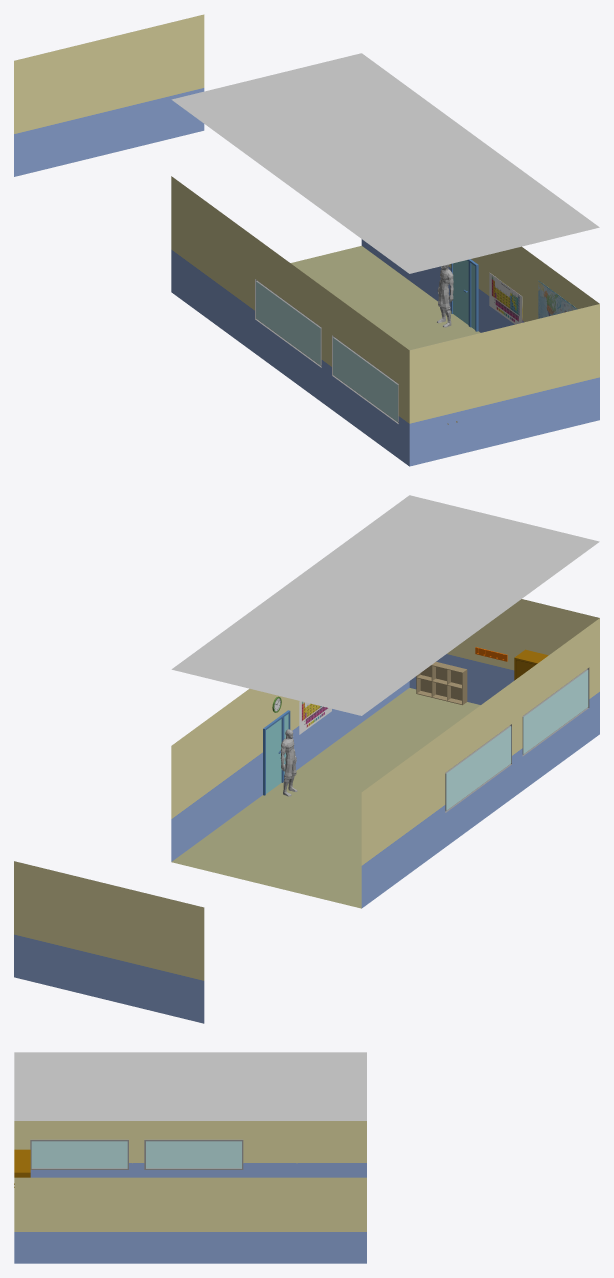
File: aula_001.fbx
3 renders of one model, top to bottom at view 1: azimuth 30°, elevation 25°; view 2: azimuth 150°, elevation 25°; view 3: azimuth 270°, elevation 25°, orthographic. The views are drawn at different scales.
Visible parts, largest first — view 1: pPlane6, polySurface3, pPlane4, pPlane1, pPlane5, pPlane2, polySurface1, polySurface2, pCube18, pCube20, pPlane8, man_reference; view 2: pPlane6, pPlane5, polySurface3, pPlane1, pPlane2, pPlane4, polySurface2, polySurface1, pCube17, pCube18, man_reference; view 3: pPlane2, pPlane6, polySurface3, polySurface1, polySurface2, pCube2.
Part boxes in pixels (<box>): pPlane6: <box>171,53,599,273</box>; polySurface3: <box>171,176,409,466</box>; pPlane4: <box>409,304,599,466</box>; pPlane1: <box>14,14,204,176</box>; pPlane5: <box>290,245,480,350</box>; pPlane2: <box>361,239,599,332</box>; polySurface1: <box>255,279,321,367</box>; polySurface2: <box>332,335,398,423</box>; pCube18: <box>451,259,478,331</box>; pCube20: <box>489,272,522,324</box>; pPlane8: <box>538,280,577,318</box>; man_reference: <box>437,264,453,327</box>; pPlane6: <box>171,495,599,715</box>; pPlane5: <box>171,688,480,908</box>; polySurface3: <box>361,618,599,908</box>; pPlane1: <box>14,861,204,1023</box>; pPlane2: <box>171,681,409,861</box>; pPlane4: <box>409,599,599,704</box>; polySurface2: <box>522,667,589,756</box>; polySurface1: <box>445,724,511,812</box>; pCube17: <box>416,662,467,705</box>; pCube18: <box>263,710,290,795</box>; man_reference: <box>280,729,297,796</box>; pPlane2: <box>14,1177,366,1263</box>; pPlane6: <box>14,1052,366,1120</box>; polySurface3: <box>14,1121,366,1177</box>; polySurface1: <box>144,1139,243,1169</box>; polySurface2: <box>30,1139,128,1169</box>; pCube2: <box>14,1149,30,1177</box>.
Size of the model in its own units: 6 by 5.8 by 21.6.
